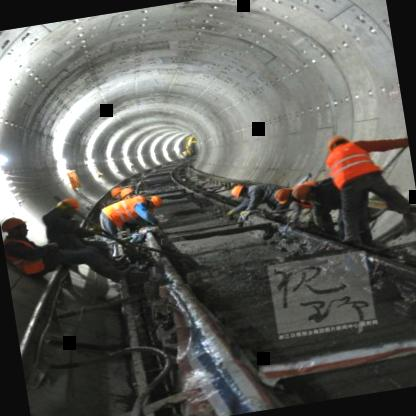helmet: (0, 211, 32, 244), (324, 131, 357, 155), (288, 181, 322, 204), (57, 192, 85, 218), (224, 180, 254, 202), (270, 184, 300, 206), (144, 194, 165, 210), (119, 186, 140, 202), (107, 185, 124, 202)
